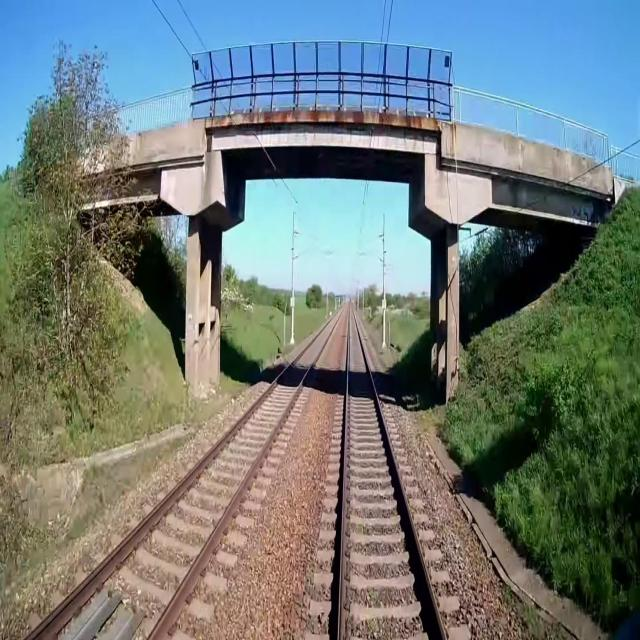rail-track: (31, 310, 341, 639), (342, 307, 442, 639)
